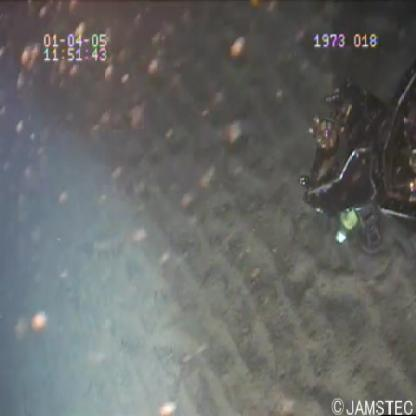Rov: (295, 57, 416, 256)
Rác: (332, 205, 360, 246)
